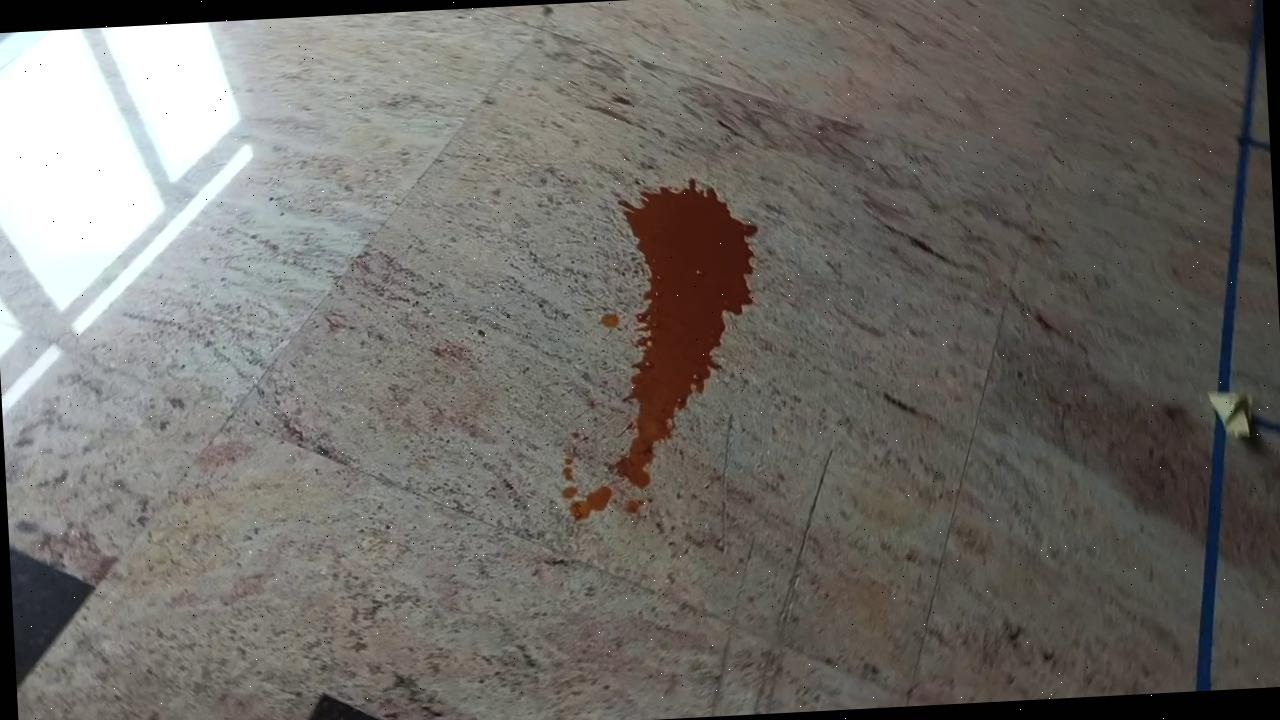dirty_floor: (545, 176, 774, 522)
